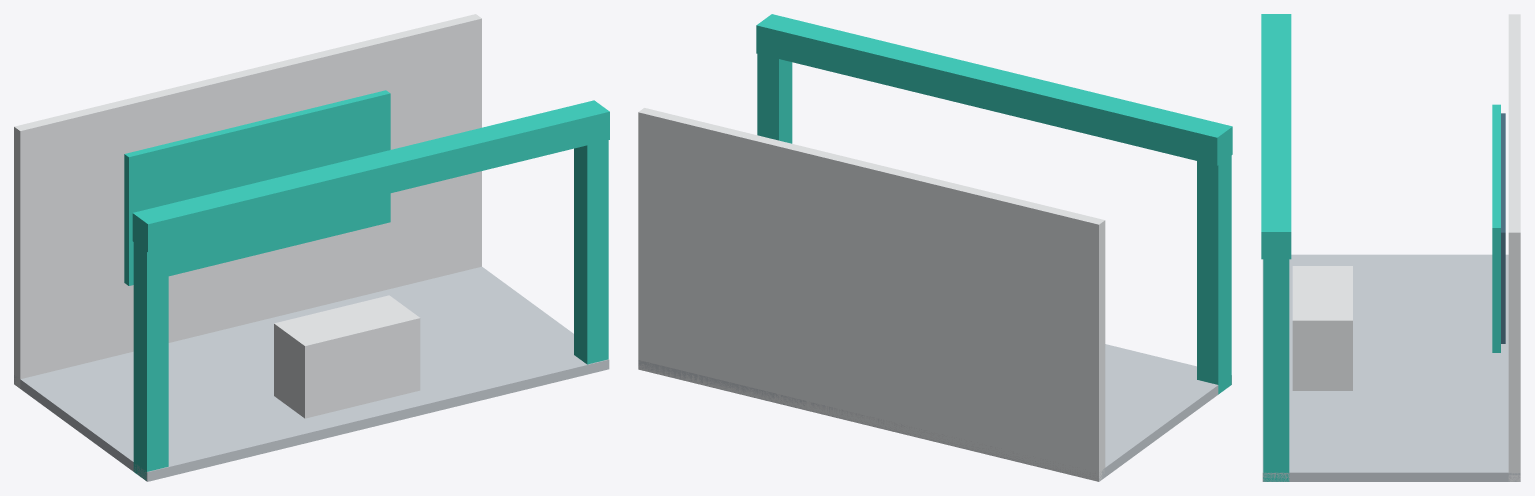
3 renders of one model, left to right at view 1: azimuth 30°, elevation 25°; view 2: azimuth 150°, elevation 25°; view 3: azimuth 270°, elevation 25°, orthographic. The views are drawn at different scales.
Parts seen in each view (by area): view 1: Exhibition Booth Concept; view 2: Exhibition Booth Concept; view 3: Exhibition Booth Concept.
Boxes of the visible parts, box(x1,y1,x2,y2) form: Exhibition Booth Concept: box(14, 14, 609, 481); Exhibition Booth Concept: box(638, 14, 1232, 481); Exhibition Booth Concept: box(1261, 14, 1520, 481).
Bounding box in the file's own units: 6 × 3.2 × 3.01.
